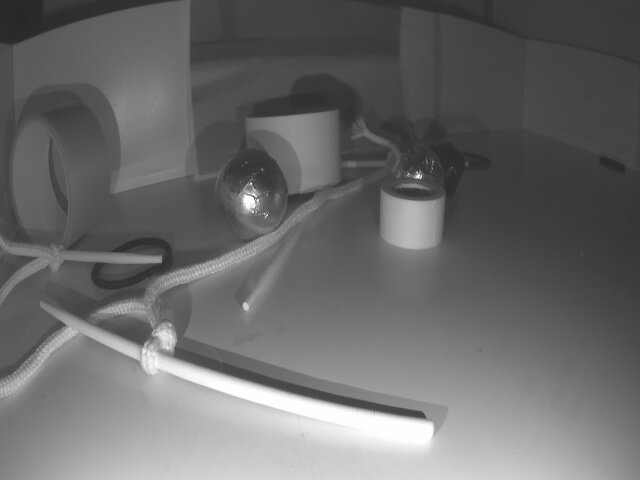Live: (220, 151, 285, 234), (389, 146, 440, 200)
